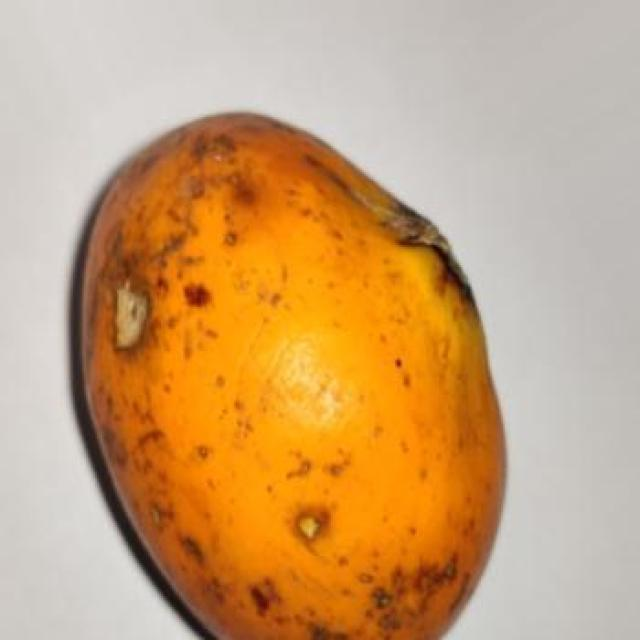good: (68, 112, 508, 638)
